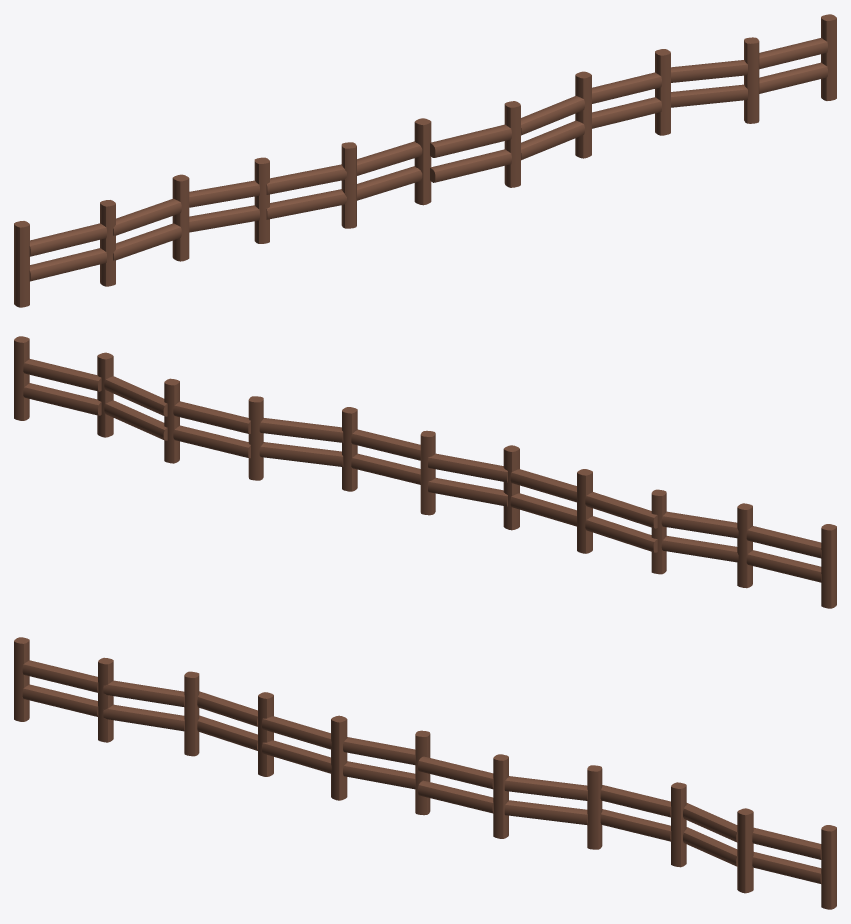
File: cit.fbx
3 views of the same model, one above another, from view 1: azimuth 30°, elevation 25°; view 2: azimuth 150°, elevation 25°; view 3: azimuth 330°, elevation 25° (orthographic). The views are drawn at different scales.
Parts seen in each view (by area): view 1: cit; view 2: cit; view 3: cit.
Part boxes in pixels (x1=…): cit: x1=14, y1=14, x2=836, y2=307; cit: x1=14, y1=336, x2=836, y2=608; cit: x1=14, y1=637, x2=836, y2=909.
Bounding box in the file's own units: 4844 × 447 × 275.
